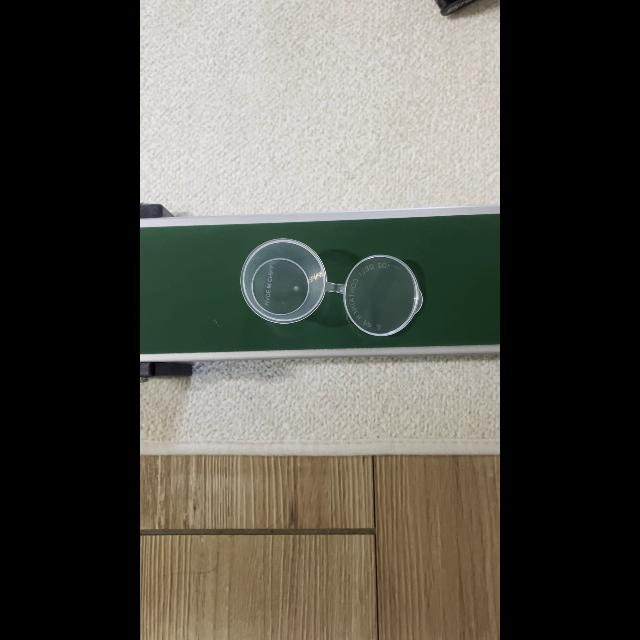clean: (245, 241, 321, 325), (342, 256, 422, 324)
